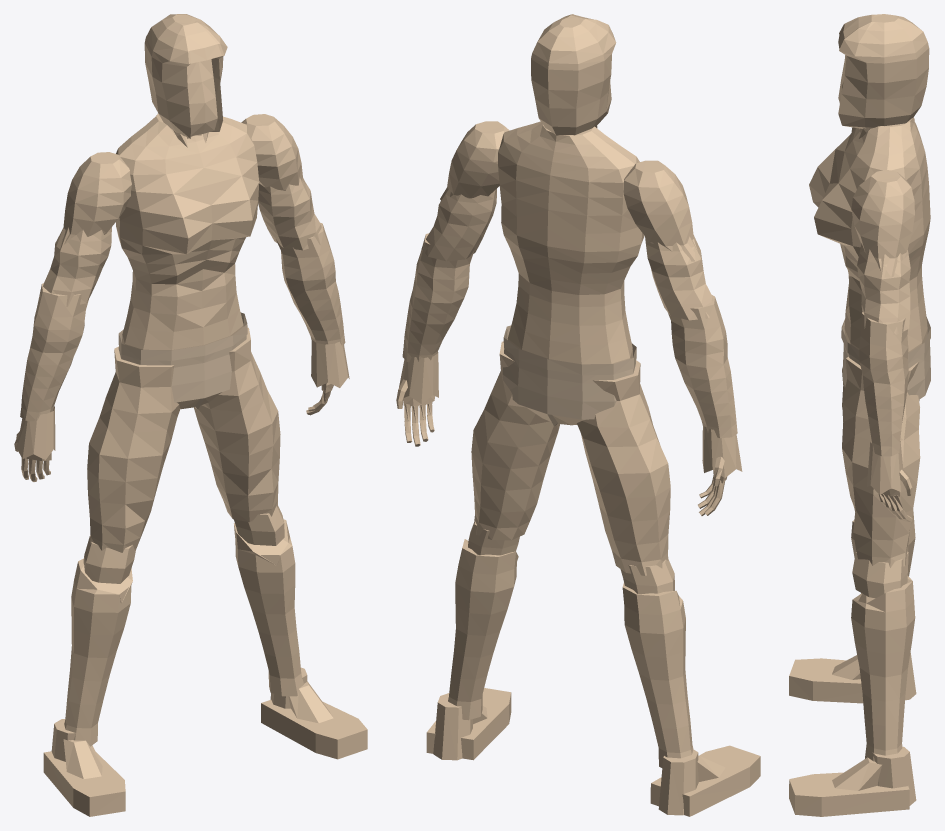
The model's file is male-hero.glb.
The picture shows the model from 3 angles, left to right: view 1: azimuth 30°, elevation 25°; view 2: azimuth 150°, elevation 25°; view 3: azimuth 270°, elevation 25°; orthographic projection. The views are drawn at different scales.
Visible parts, largest first — view 1: torso, leg_upper_l, leg_upper_r, head, leg_lower_l, leg_lower_r, arm_lower_l, arm_lower_r, deltoid_l, foot_r, arm_upper_l, arm_upper_r (+10 smaller); view 2: torso, leg_upper_l, leg_upper_r, head, leg_lower_l, leg_lower_r, arm_lower_l, arm_lower_r, briefs, deltoid_l, arm_upper_l, arm_upper_r (+10 smaller); view 3: torso, head, leg_upper_r, leg_lower_r, arm_lower_r, deltoid_r, foot_r, arm_upper_r, foot_l, knee_r, heel_r, cuff_r (+6 smaller).
Part boxes in pixels (x1,y1,x2,y2): torso: (116,113,259,409); leg_upper_l: (87,346,180,552); leg_upper_r: (194,327,280,522); head: (144,14,227,138); leg_lower_l: (64,558,132,746); leg_lower_r: (234,519,303,696); arm_lower_l: (20,283,89,421); arm_lower_r: (276,222,345,345); deltoid_l: (56,152,131,248); foot_r: (261,700,367,759); arm_upper_l: (39,227,111,306); arm_upper_r: (258,177,322,250); torso: (498,121,644,425); leg_upper_l: (577,360,670,575); leg_upper_r: (471,341,560,540); head: (531,14,616,135); leg_lower_l: (622,583,693,767); leg_lower_r: (448,539,518,720); arm_lower_l: (668,295,737,438); arm_lower_r: (402,233,474,362); briefs: (502,327,635,426); deltoid_l: (623,160,698,261); arm_upper_l: (645,234,713,320); arm_upper_r: (421,188,496,261); torso: (809,118,930,353); head: (838,14,929,128); leg_upper_r: (842,356,920,567); leg_lower_r: (851,576,915,761); arm_lower_r: (859,312,908,456); deltoid_r: (851,169,914,277); foot_r: (789,772,909,816); arm_upper_r: (857,243,910,334); foot_l: (789,658,863,703); knee_r: (852,551,908,598); heel_r: (873,746,916,805); cuff_r: (867,440,903,494).
Bounding box in the file's own units: 0.867 × 1.85 × 0.3265.
